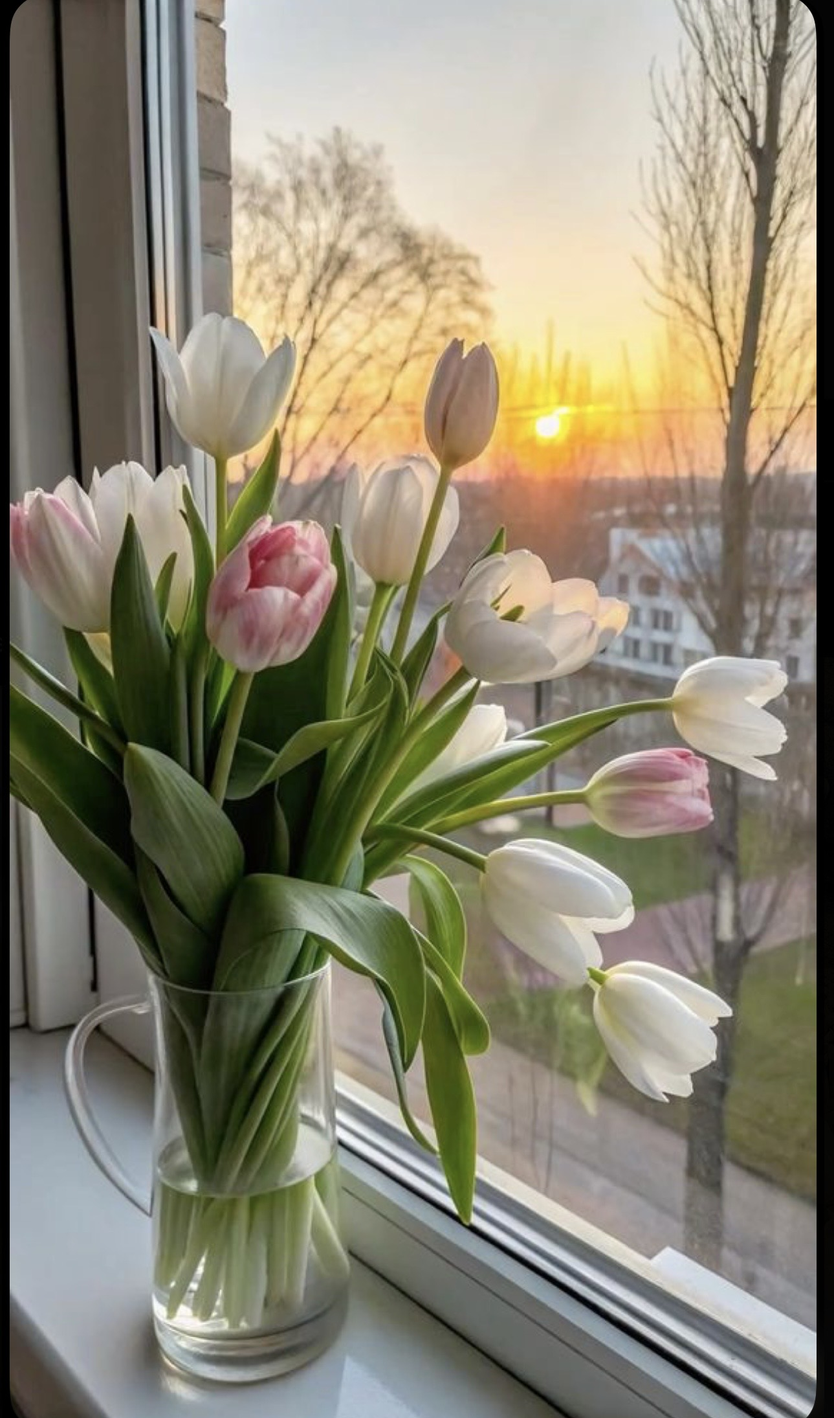tulip: (429, 541, 640, 687), (466, 826, 641, 995), (136, 303, 299, 470), (199, 504, 341, 678), (324, 448, 483, 602), (586, 952, 741, 1109), (659, 638, 793, 787), (9, 473, 121, 640), (82, 440, 193, 598), (577, 738, 720, 844), (408, 330, 510, 477)
